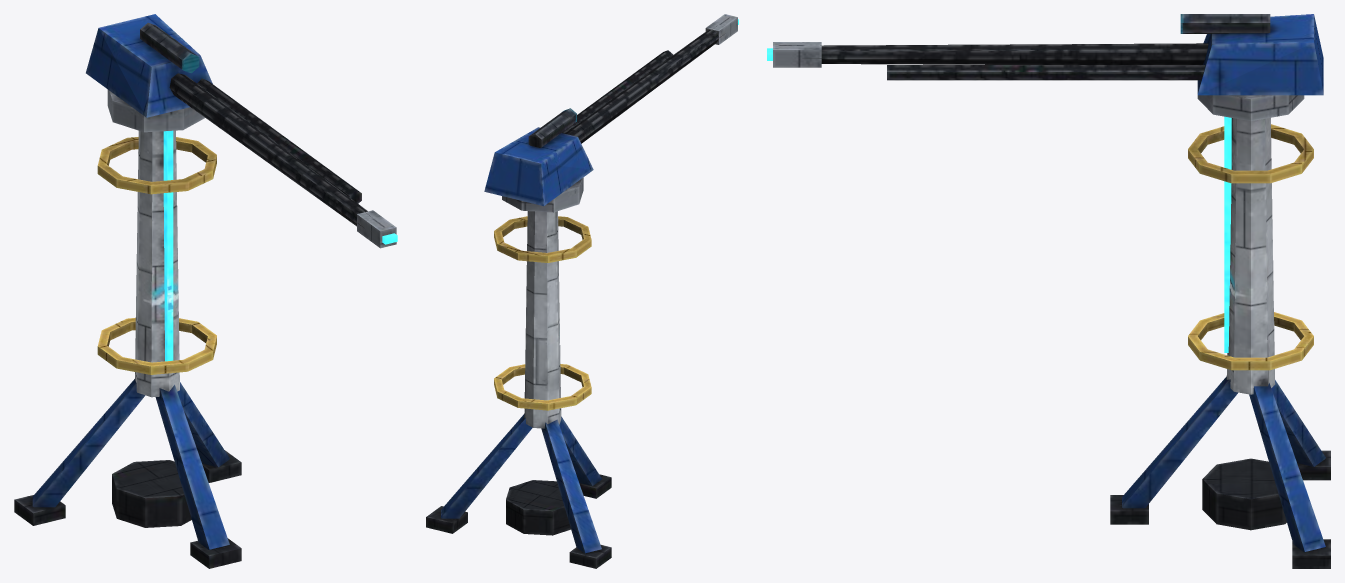
The model's file is u_spire3_w.glb.
3 views of the same model, side by side, from view 1: azimuth 30°, elevation 25°; view 2: azimuth 150°, elevation 25°; view 3: azimuth 270°, elevation 25° (orthographic). The views are drawn at different scales.
Visible parts, largest first — view 1: u_spire3_w; view 2: u_spire3_w; view 3: u_spire3_w.
Boxes of the visible parts, <box> form: u_spire3_w: <box>14,14,397,568</box>; u_spire3_w: <box>426,14,738,568</box>; u_spire3_w: <box>767,14,1330,568</box>.
Size of the model in its own units: 1.19 by 2.65 by 2.7.
1 material, 1 textured.
